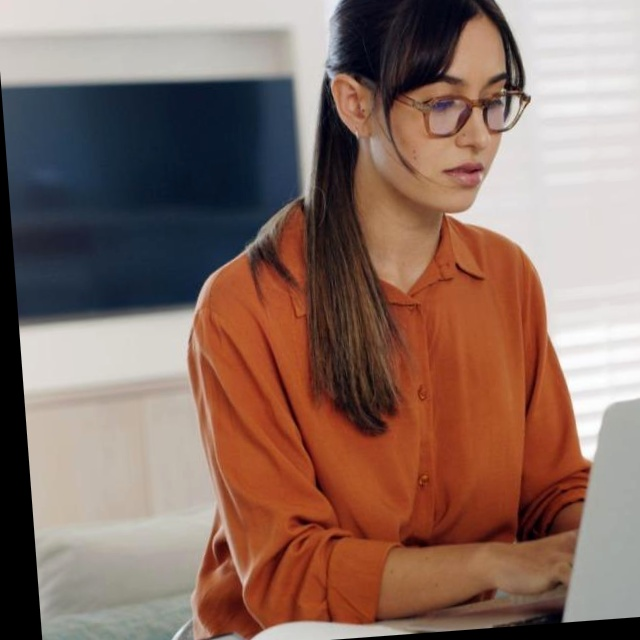Sin_Casco_Mascarrilla: (317, 0, 534, 220)
Sin_Chaleco: (194, 205, 577, 640)
